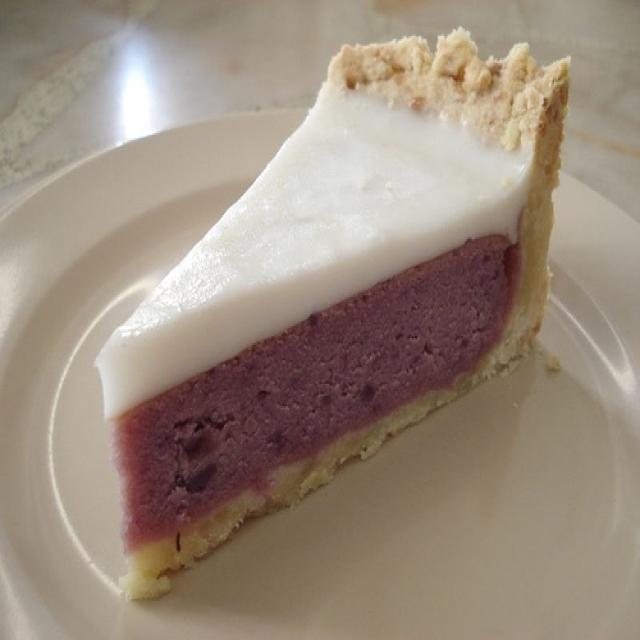蛋糕甜品: (43, 48, 603, 594)
